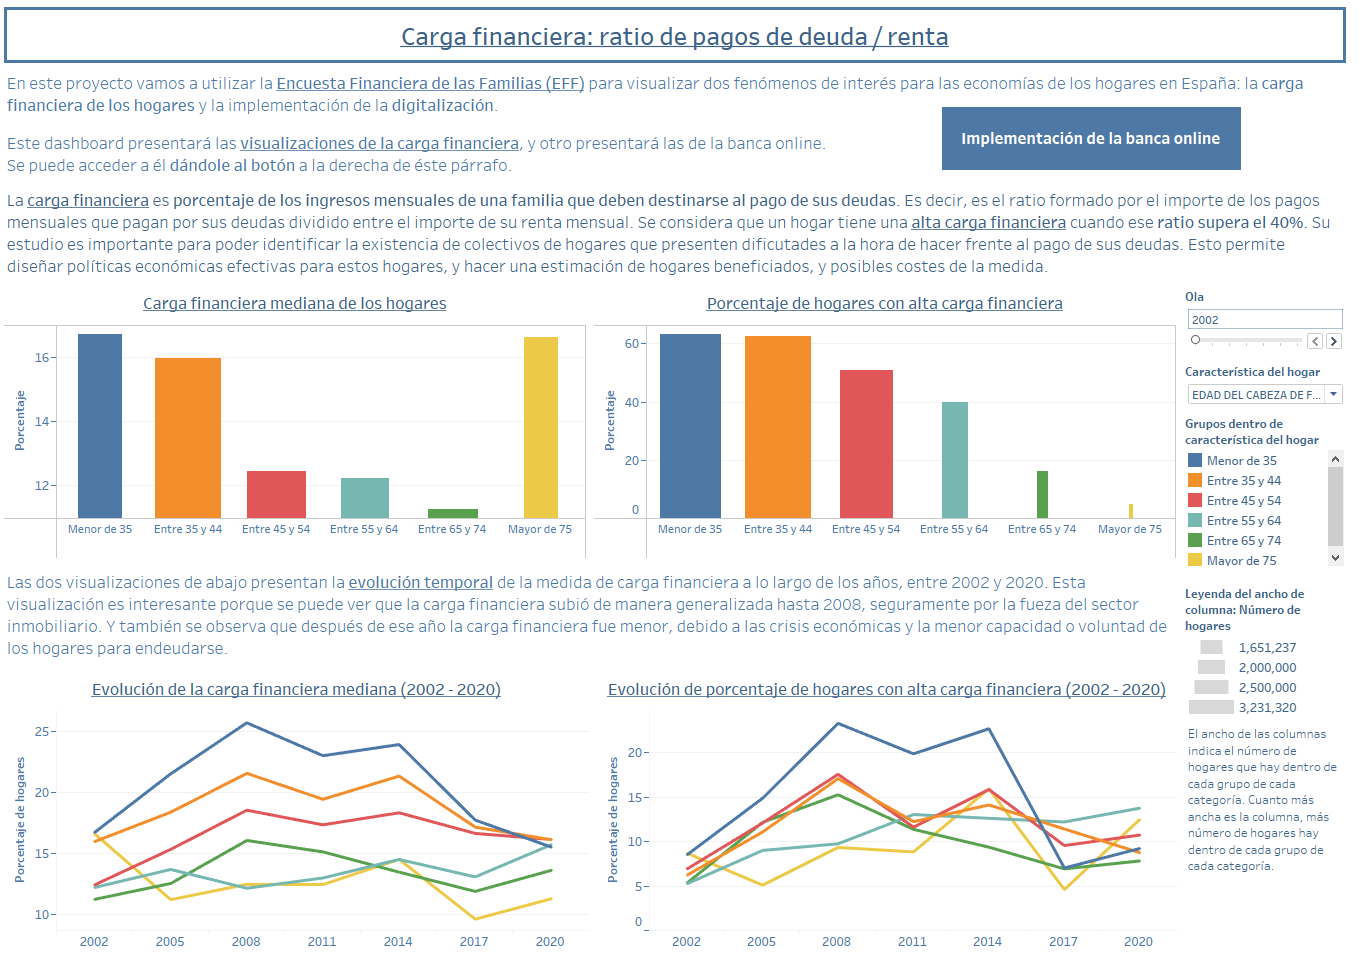

What the dashboard file says about the page in this screenshot:
{"tool":"tableau","page":{"name":"Fragilidad financiera: ratio pagos deuda/renta","canvas":[1366,968],"ordinal":0},"visuals":[{"type":"title","box":[8,8,1350,64]},{"type":"text","box":[8,72,1350,117]},{"type":"dashboard-object","box":[950,112,299,63]},{"type":"text","box":[8,189,1350,100]},{"type":"worksheet","title":"Mediana carga financiera","mark":"Bar","rows":["MEDIANA DEL RATIO \"PAGOS POR DEUDAS / RENTA\""],"cols":["desglose","categoria"],"box":[8,289,590.3,278.6]},{"type":"worksheet","title":"Porcentaje de hogares con alta carga financiera","mark":"Bar","rows":["PORCENTAJE DE HOGARES CON DEUDAS"],"cols":["desglose","categoria"],"box":[598.3,289,590.3,278.6]},{"type":"filter","title":"Mediana carga financiera","param":"[federated.1jrlj671qzu8w31er0m7j0wf4u6o].[none:ola:ok]","box":[1188.7,289,169.3,75]},{"type":"filter","title":"Mediana carga financiera","param":"[federated.1jrlj671qzu8w31er0m7j0wf4u6o].[none:desglose:nk]","box":[1188.7,364,169.3,52]},{"type":"legend","title":"Mediana carga financiera","param":"[federated.1jrlj671qzu8w31er0m7j0wf4u6o].[none:categoria:nk]","box":[1188.7,416,169.3,159]},{"type":"text","box":[8,567.6,1180.7,107.2]},{"type":"legend","title":"Mediana carga financiera","param":"[federated.1jrlj671qzu8w31er0m7j0wf4u6o].[sum:POBLACION TOTAL:qk]","box":[1188.7,586,169.3,140]},{"type":"worksheet","title":"Evolución por ola de la carga financiera","mark":"Line","rows":["MEDIANA DEL RATIO \"PAGOS POR DEUDAS / RENTA\""],"cols":["ola"],"box":[8,674.8,593,285.3]},{"type":"worksheet","title":"Evolución por ola de hogares endeudados con alta carga financiera","mark":"Line","rows":["PORC HOGS ENDEUDADOS CON \"PAGOS POR DEUDAS / RENTA\" SUP A 40"],"cols":["ola"],"box":[601,674.8,587.7,285.3]},{"type":"text","box":[1188.7,726,169.3,161]}]}

Visuals, with their boxes in screenshot pixels (x1, y1, x2, y2), scaled from the page's 1366x968 canvas onto the 1361x964 screenshot:
title: BBox(8, 8, 1353, 72)
text: BBox(8, 72, 1353, 188)
dashboard-object: BBox(947, 112, 1244, 174)
text: BBox(8, 188, 1353, 288)
"Mediana carga financiera" worksheet (Bar marks): BBox(8, 288, 596, 565)
"Porcentaje de hogares con alta carga financiera" worksheet (Bar marks): BBox(596, 288, 1184, 565)
"Mediana carga financiera" filter: BBox(1184, 288, 1353, 362)
"Mediana carga financiera" filter: BBox(1184, 362, 1353, 414)
"Mediana carga financiera" legend: BBox(1184, 414, 1353, 573)
text: BBox(8, 565, 1184, 672)
"Mediana carga financiera" legend: BBox(1184, 584, 1353, 723)
"Evolución por ola de la carga financiera" worksheet (Line marks): BBox(8, 672, 599, 956)
"Evolución por ola de hogares endeudados con alta carga financiera" worksheet (Line marks): BBox(599, 672, 1184, 956)
text: BBox(1184, 723, 1353, 883)
